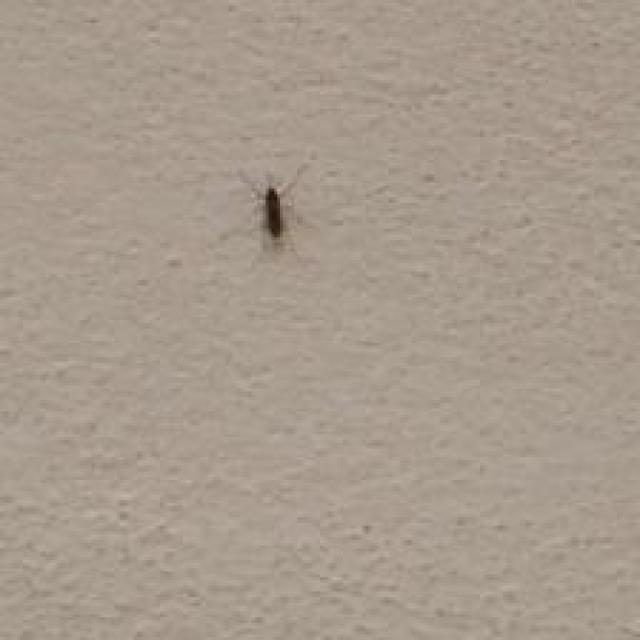Culex: (264, 184, 284, 239)
